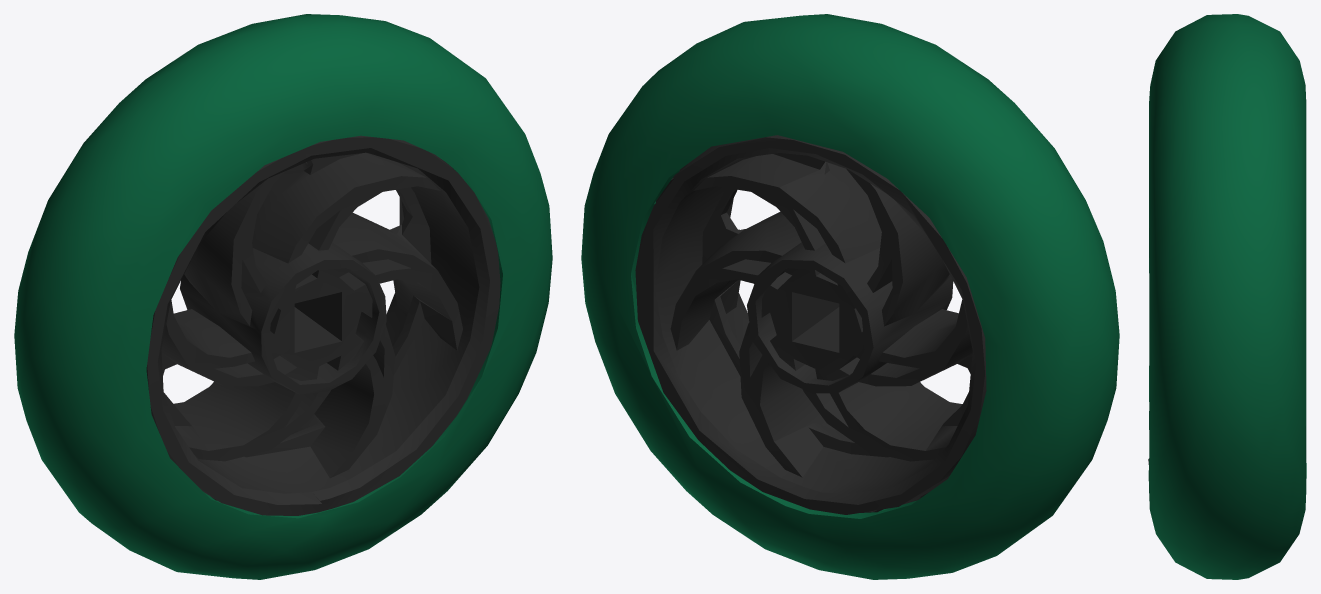
The model's file is 2_75_Wheel.glb.
3 views of the same model, side by side, from view 1: azimuth 30°, elevation 25°; view 2: azimuth 150°, elevation 25°; view 3: azimuth 270°, elevation 25° (orthographic). The views are drawn at different scales.
Visible parts, largest first — view 1: 2.75 Wheel; view 2: 2.75 Wheel; view 3: 2.75 Wheel.
Part boxes in pixels (left/top/right/bottom): 2.75 Wheel: left=14, top=14, right=552, bottom=579; 2.75 Wheel: left=581, top=14, right=1119, bottom=579; 2.75 Wheel: left=1148, top=14, right=1306, bottom=579.
Bounding box in the file's own units: 2.76 × 2.75 × 0.7677.
